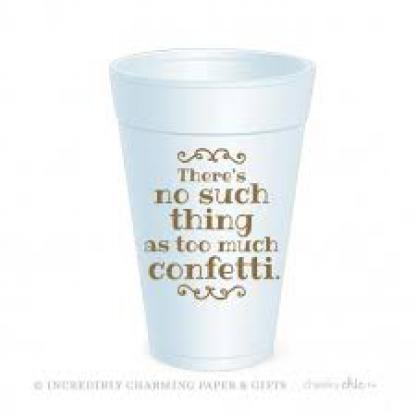paper: (107, 44, 311, 368)
